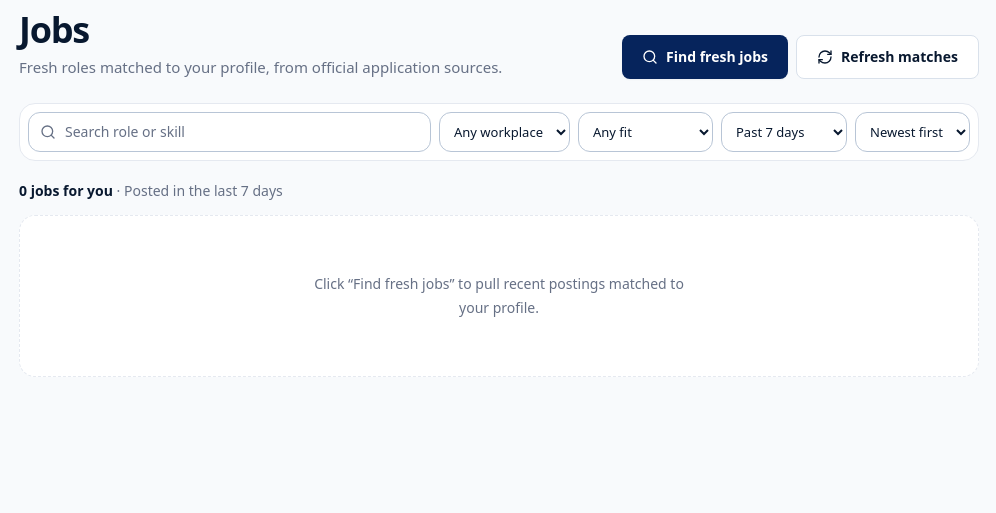
it: JobDiscovery › saves a job via the official save action and reflects tracker state
Click the button "Find fresh jobs". click: [705, 56]
box: [622,34,788,78]
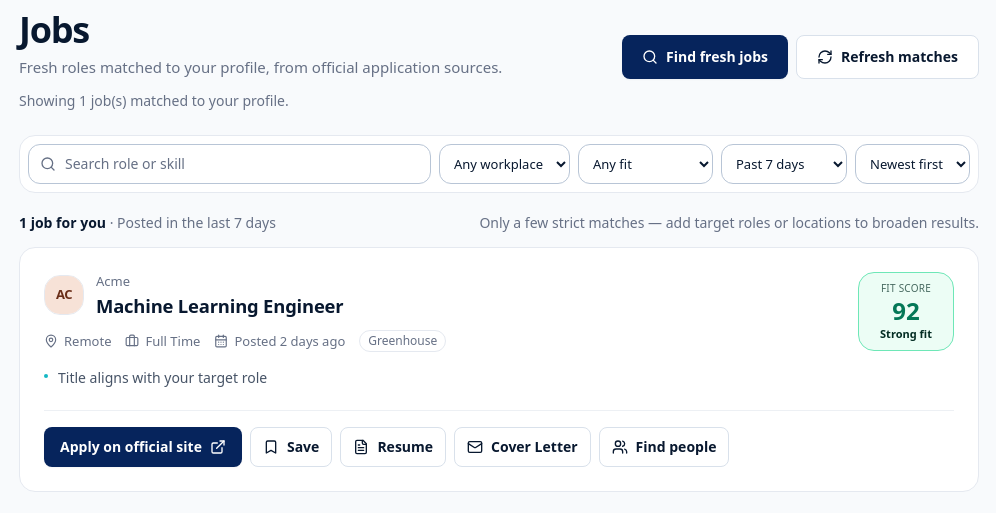
Click the button "Save". click: [291, 447]
box: [250,427,332,467]
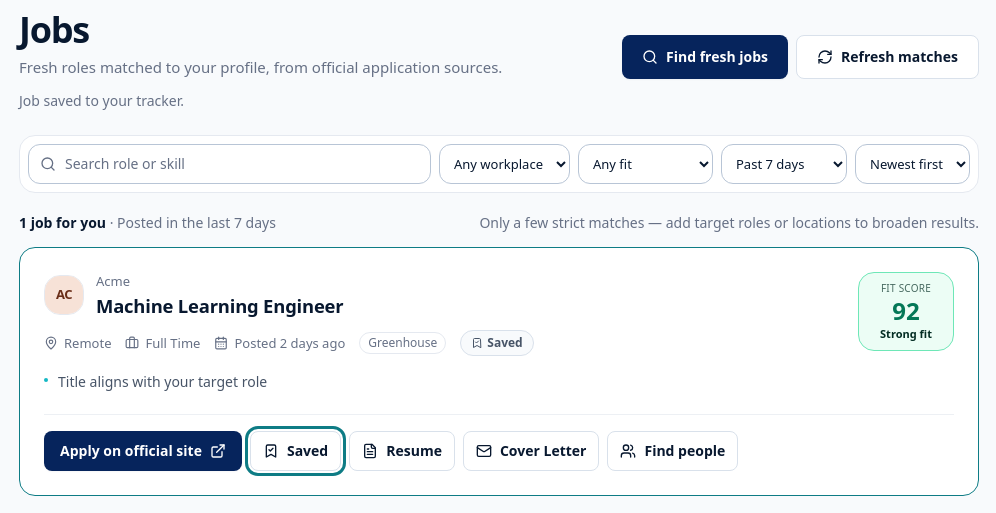
Expected: the button "Saved" is shown, [250,431,341,471]
